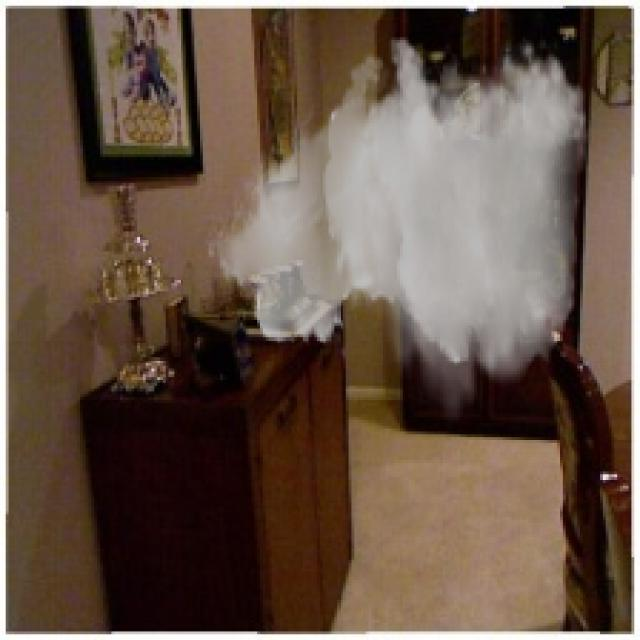smoke: (206, 34, 588, 429)
